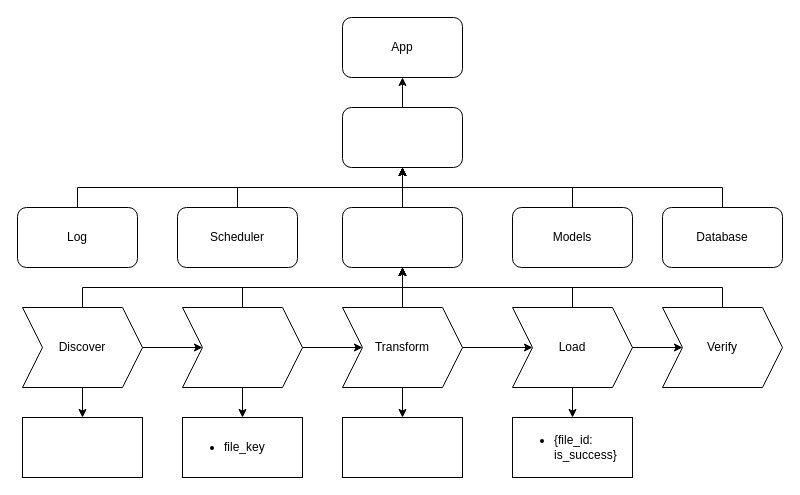
Some shapes in this 800 by 495 pixel diagram are drawn without their labels. The centre of each missing label's shape, as x and y in pixels:
[file_id]: (x=82, y=447)
DataFrame: (x=402, y=447)
Extract: (x=242, y=347)
Flow: (x=402, y=237)
Schema: (x=402, y=137)
